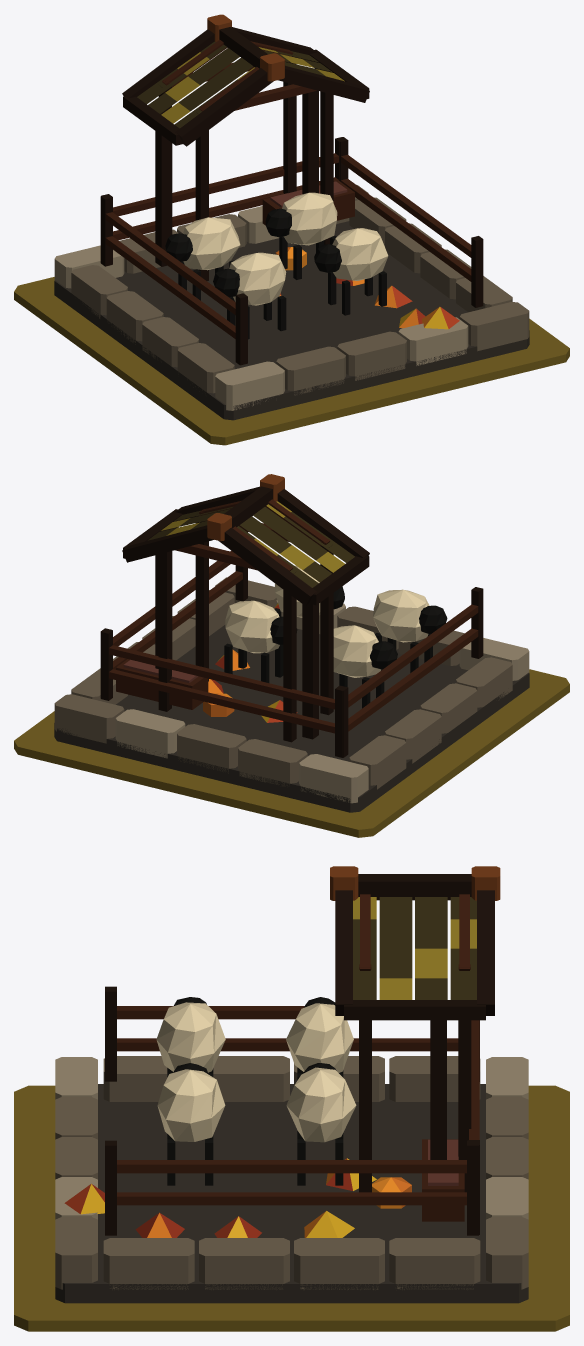
File: pasture_t4.glb
3 renders of one model, top to bottom at view 1: azimuth 30°, elevation 25°; view 2: azimuth 150°, elevation 25°; view 3: azimuth 270°, elevation 25°, orthographic. The views are drawn at different scales.
Visible parts, largest first — view 1: MMR | pasture | T04 Architecture.001, MMR | pasture | Tier 04 Ground.001, MMR | pasture | T04 Autumn Dressing.001; view 2: MMR | pasture | T04 Architecture.001, MMR | pasture | Tier 04 Ground.001, MMR | pasture | T04 Autumn Dressing.001; view 3: MMR | pasture | T04 Architecture.001, MMR | pasture | Tier 04 Ground.001, MMR | pasture | T04 Autumn Dressing.001.
Boxes of the visible parts, x1,y1,x2,y2 form: MMR | pasture | T04 Architecture.001: (54,14,529,420); MMR | pasture | Tier 04 Ground.001: (14,277,569,445); MMR | pasture | T04 Autumn Dressing.001: (275,247,459,329); MMR | pasture | T04 Architecture.001: (54,474,529,812); MMR | pasture | Tier 04 Ground.001: (14,669,569,837); MMR | pasture | T04 Autumn Dressing.001: (203,603,297,722); MMR | pasture | T04 Architecture.001: (55,866,528,1303); MMR | pasture | Tier 04 Ground.001: (14,1085,569,1331); MMR | pasture | T04 Autumn Dressing.001: (64,1158,411,1237).
Size of the model in its own units: 2.35 by 1.59 by 2.35.
1 material, 1 textured.
